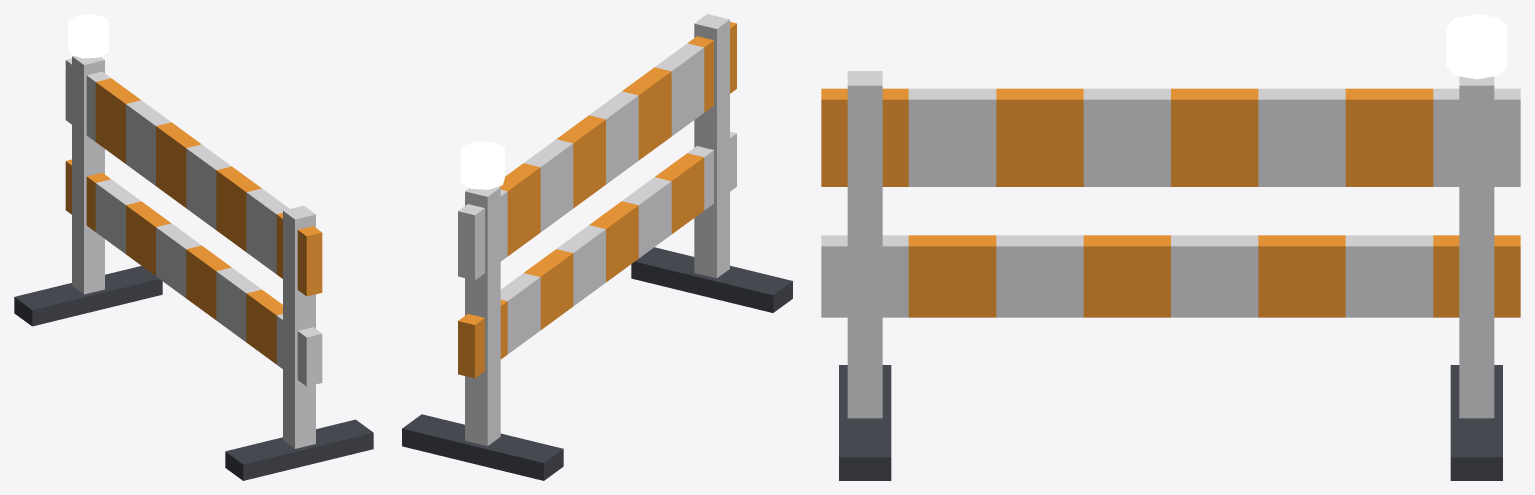
Rendered from SM_Barrier.fbx.
The picture shows the model from 3 angles, left to right: view 1: azimuth 30°, elevation 25°; view 2: azimuth 150°, elevation 25°; view 3: azimuth 270°, elevation 25°; orthographic projection. The views are drawn at different scales.
Visible parts, largest first — view 1: SM_Barrier; view 2: SM_Barrier; view 3: SM_Barrier.
Part boxes in pixels (bbox=[...]): SM_Barrier: bbox=[14, 14, 373, 480]; SM_Barrier: bbox=[402, 14, 792, 480]; SM_Barrier: bbox=[821, 14, 1520, 480].
Bounding box in the file's own units: 50 × 103 × 160.
